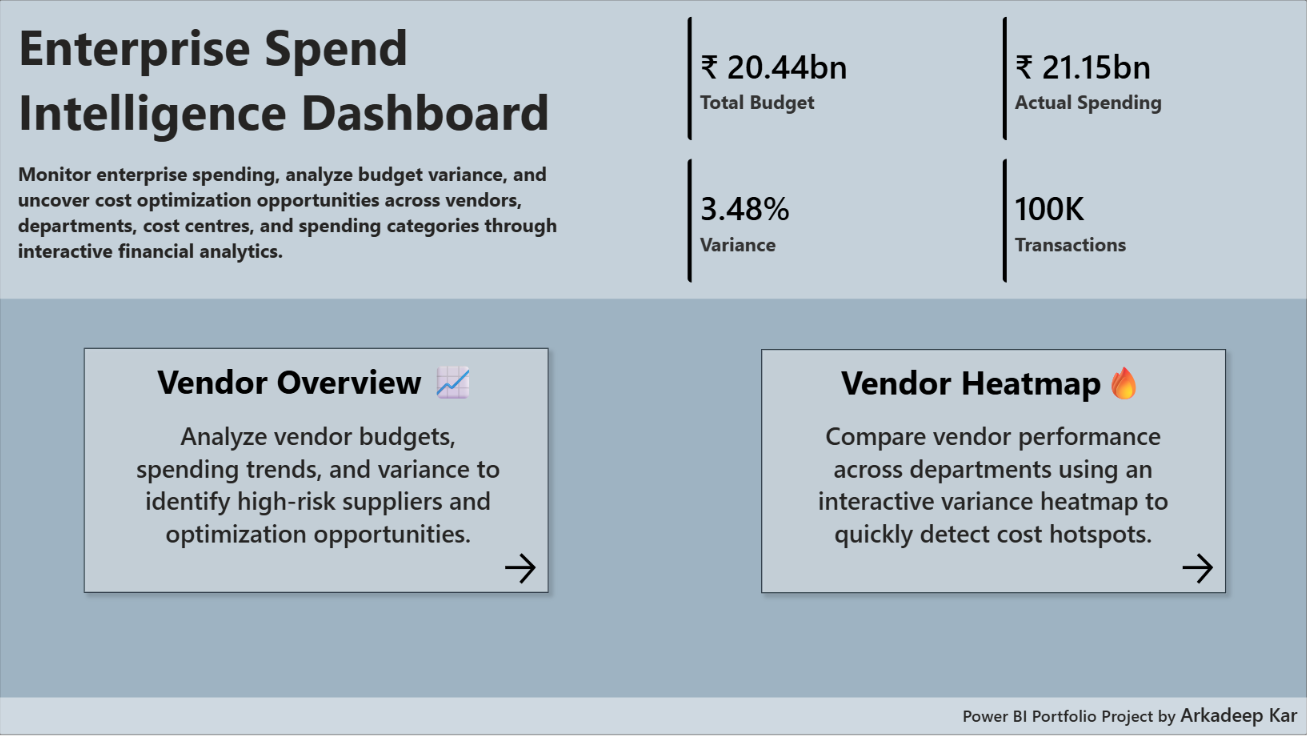

What the dashboard file says about the page in this screenshot:
{"tool":"powerbi","page":{"name":"Home Page","canvas":[1280,720],"ordinal":0},"visuals":[{"type":"shape","box":[0,0,1280.2,293.2],"z":0},{"type":"textbox","box":[13.8,8.3,572.1,278.5],"z":1000},{"type":"cardVisual","fields":{"Data":["Measure Table.Total Budget","Measure Table.Actual Spending","Measure Table.%Over spent","Measure Table.Total Transactions"]},"box":[674.1,16.5,598.3,261.9],"z":2000},{"type":"shape","box":[0,682.4,1280.7,37.2],"z":3000},{"type":"textbox","box":[925.2,682.1,355,36.8],"z":4000},{"type":"shape","box":[74.4,332.2,472.8,257.8],"z":5000},{"type":"shape","box":[736.6,332.9,472.8,257],"z":6000},{"type":"actionButton","box":[489.4,536.2,46.9,40],"z":7000},{"type":"actionButton","box":[1152.4,536.2,46.9,40],"z":8000},{"type":"textbox","box":[121.3,405.3,381.9,150.3],"z":9000},{"type":"textbox","box":[781.6,405.3,381.9,150.3],"z":10000}]}

Visuals, with their boxes in screenshot pixels (x1, y1, x2, y2), scaled from the page's 1280x720 canvas onto the 1307x736 screenshot:
shape: x1=0 y1=0 x2=1306 y2=300
textbox: x1=14 y1=8 x2=598 y2=293
cardVisual - Measure Table.Total Budget x Measure Table.Actual Spending: x1=688 y1=17 x2=1299 y2=285
shape: x1=0 y1=698 x2=1306 y2=735
textbox: x1=945 y1=697 x2=1306 y2=735
shape: x1=76 y1=340 x2=559 y2=603
shape: x1=752 y1=340 x2=1235 y2=603
actionButton: x1=500 y1=548 x2=548 y2=589
actionButton: x1=1177 y1=548 x2=1225 y2=589
textbox: x1=124 y1=414 x2=514 y2=568
textbox: x1=798 y1=414 x2=1188 y2=568
